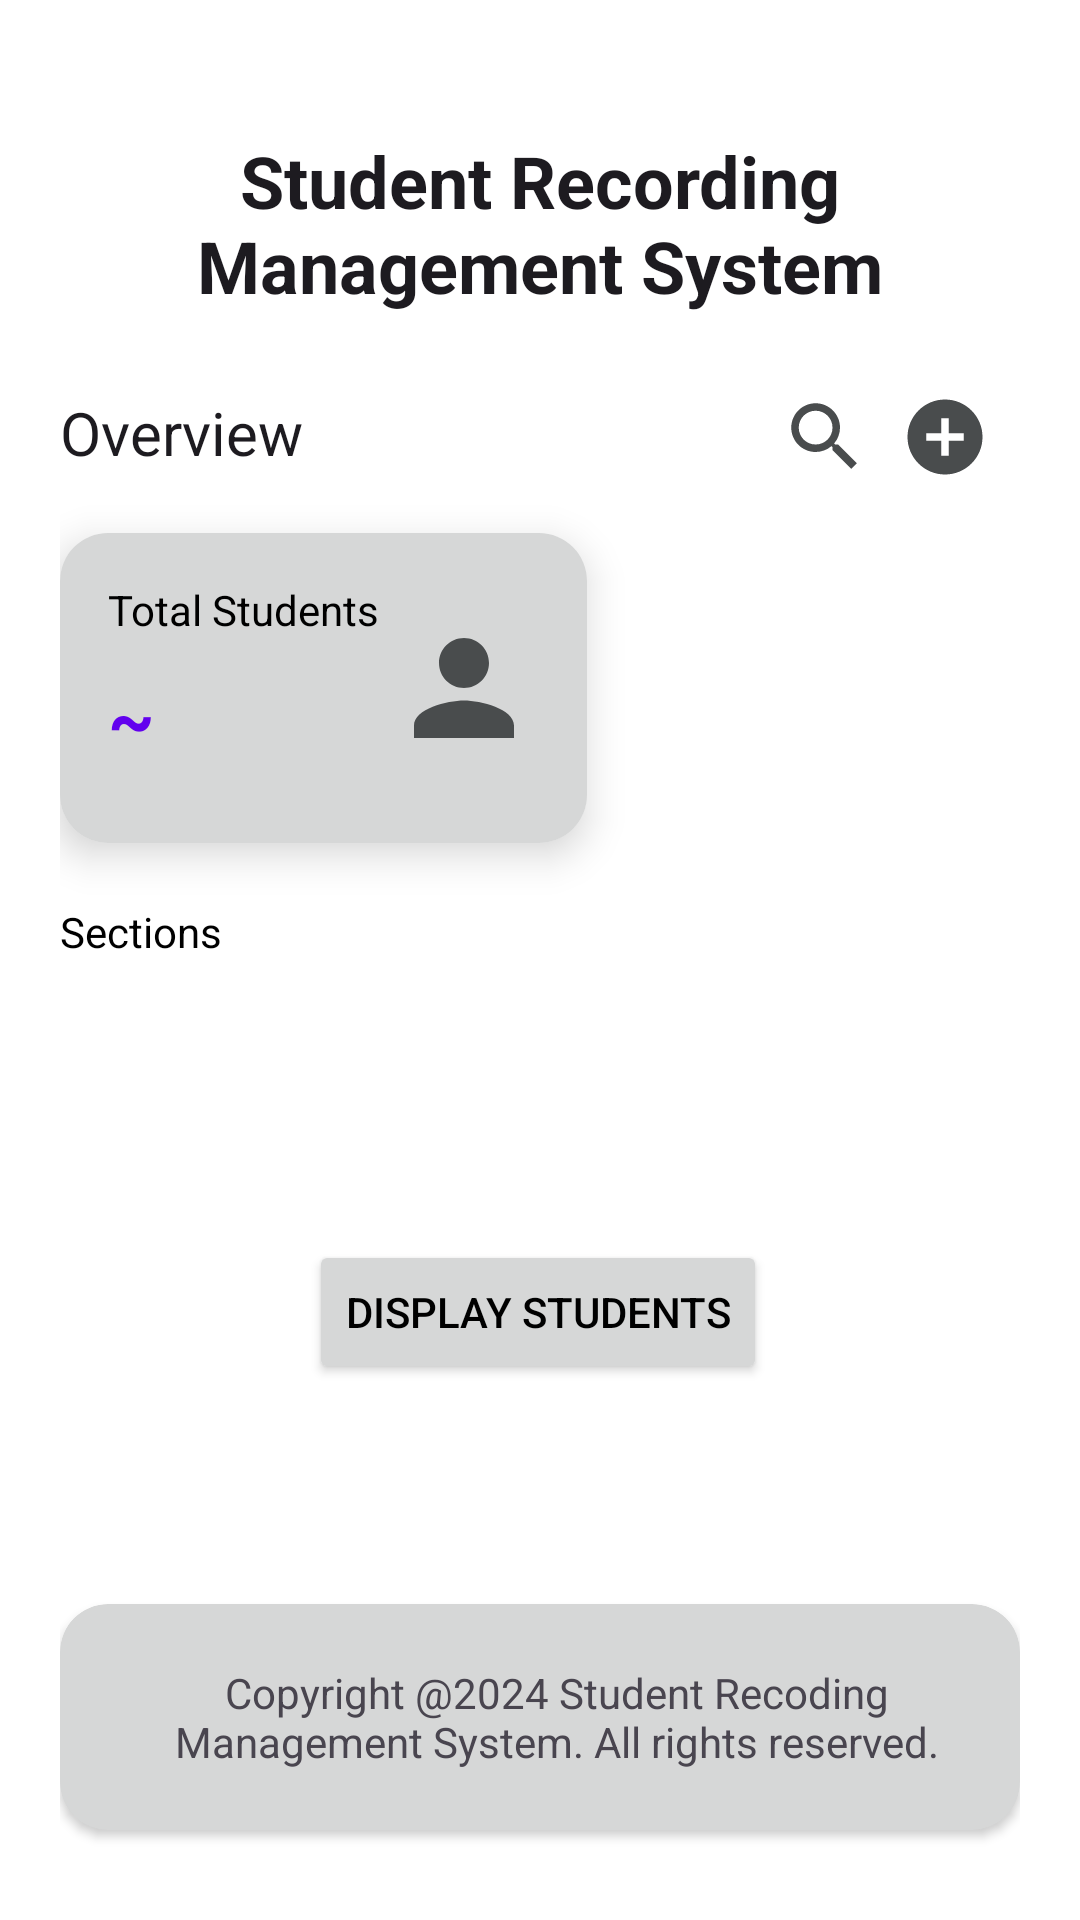

Where to tap for icons on this 1080w x 1920h app screen, as [x,y]:
add: [945,437]
profile: [464,688]
search: [824,436]
